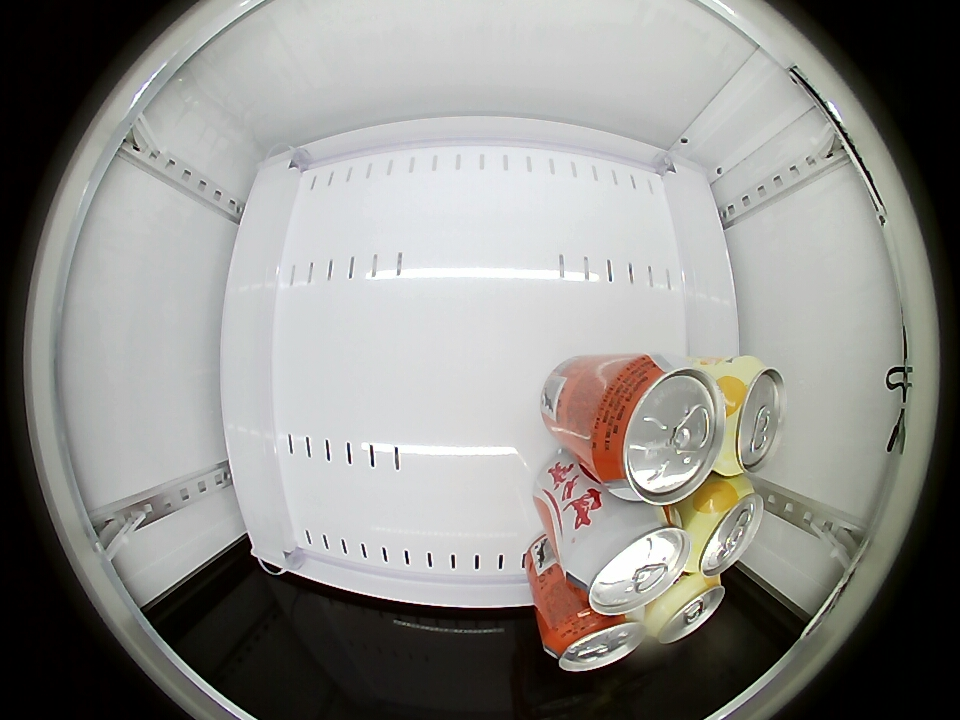jianlibao: (593, 359, 725, 506), (569, 502, 690, 617), (545, 608, 646, 672)
mangguoxiaolao: (715, 357, 786, 477), (685, 478, 765, 576), (646, 573, 726, 644)
